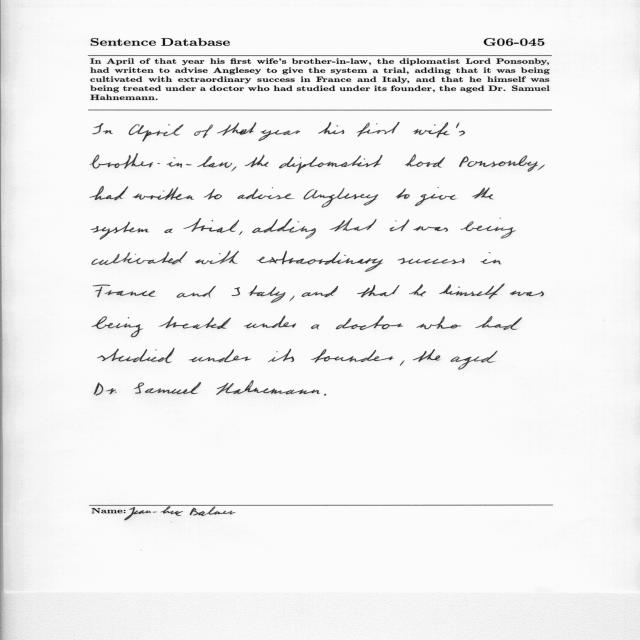word: (257, 251, 384, 272), (90, 153, 232, 169), (279, 155, 383, 173), (216, 380, 320, 395), (304, 188, 379, 208), (252, 218, 316, 239), (459, 155, 538, 172), (92, 251, 187, 265), (98, 348, 174, 363), (461, 218, 516, 238), (311, 349, 394, 362), (92, 317, 143, 338), (91, 222, 149, 240), (439, 284, 505, 299), (232, 285, 286, 303), (159, 316, 232, 329), (336, 316, 403, 330), (129, 124, 184, 141), (451, 351, 498, 370), (183, 218, 239, 233), (413, 122, 465, 138), (189, 350, 252, 363), (132, 187, 194, 200), (134, 382, 201, 394), (415, 187, 457, 206), (93, 285, 155, 297), (238, 187, 295, 199), (475, 316, 522, 330), (357, 122, 400, 137), (244, 316, 296, 328), (330, 218, 377, 231), (417, 316, 462, 329), (195, 251, 239, 264), (405, 154, 445, 168), (90, 186, 128, 200), (357, 285, 400, 297), (217, 123, 256, 136), (177, 286, 216, 298), (259, 130, 301, 141), (398, 258, 465, 264), (302, 286, 338, 297), (413, 349, 440, 362), (268, 349, 294, 362), (318, 122, 344, 134), (245, 155, 269, 168), (94, 382, 116, 396), (472, 188, 494, 200), (389, 219, 410, 231), (481, 253, 502, 265), (194, 125, 213, 138), (93, 123, 113, 134), (413, 226, 448, 232), (409, 285, 426, 297), (510, 291, 544, 297), (204, 189, 222, 200), (396, 188, 410, 199), (311, 325, 320, 330), (538, 165, 545, 171), (164, 229, 173, 233), (289, 296, 295, 302), (231, 167, 237, 172), (400, 360, 405, 366), (239, 231, 243, 235), (324, 394, 326, 396)
